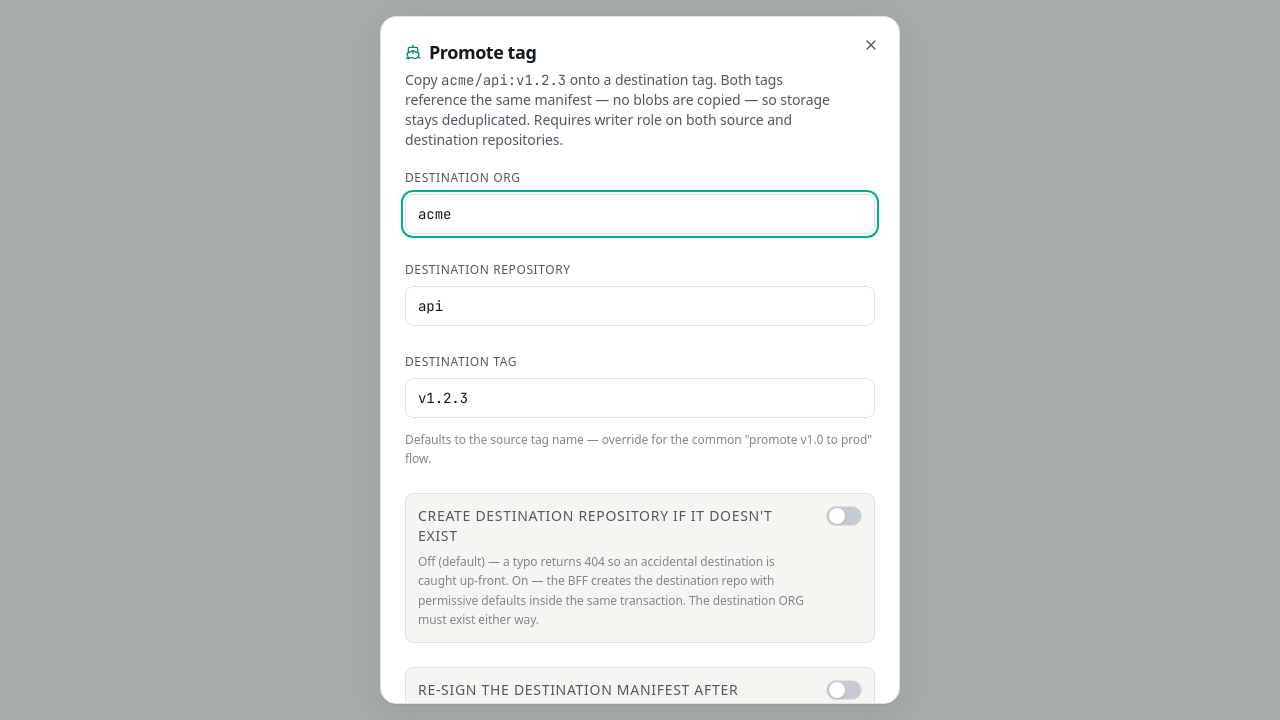
Test: PromoteTagDialog › shows an inline error when the destination org fails the shape regex
# Uppercase orgs violate the CLAUDE.md §7 regex.
Replace the text in the field labelled "Destination org" with "ACME": [640, 214] box 405,194 -> 875,234
(page scrolled)
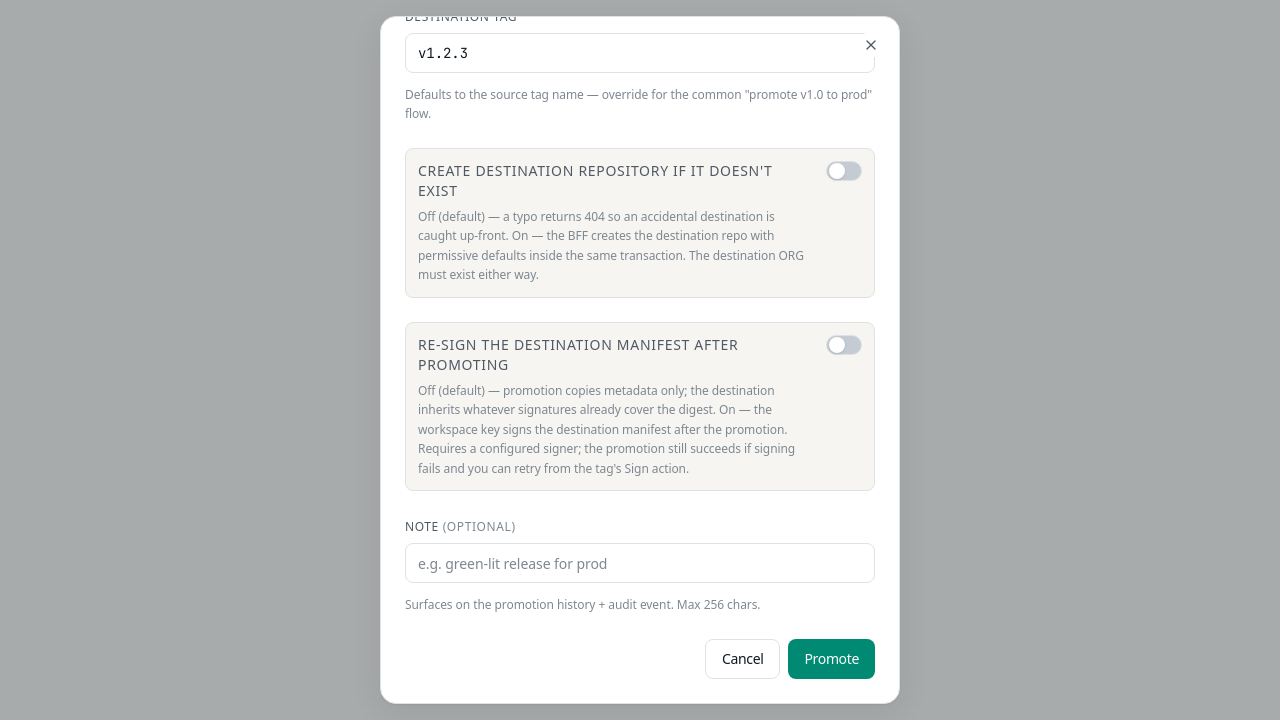
Click the button "Promote": [832, 658] box 788,638 -> 875,678
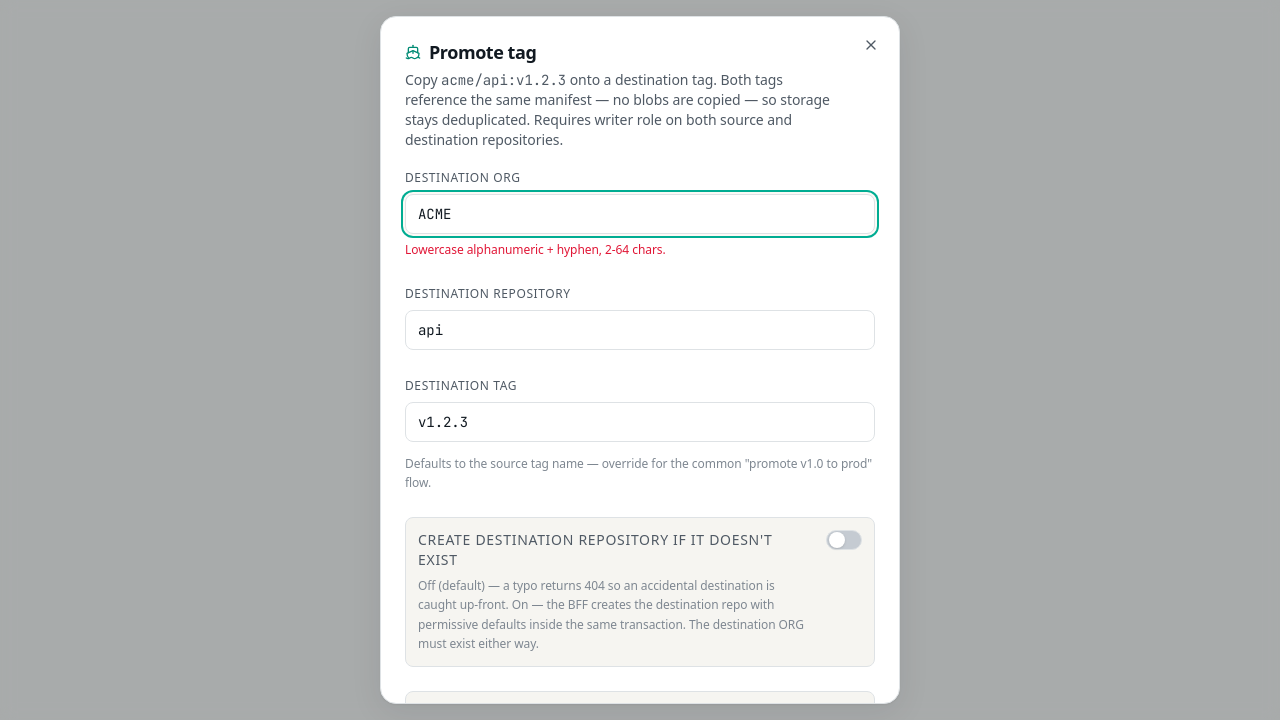
Check: the text "Lowercase alphanumeric + hyphen, 2-64 chars." is shown, box 405,240 -> 666,258
